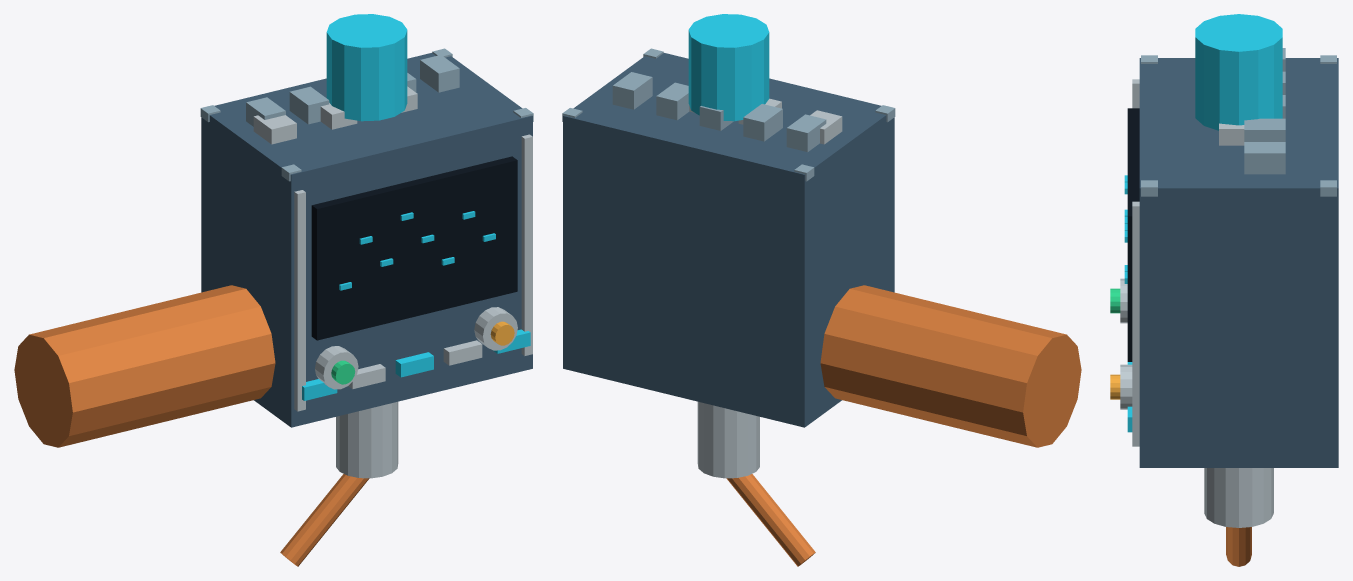
Rendered from 18_L76_ElectrolyteMassFlowController.fbx.
The picture shows the model from 3 angles, left to right: view 1: azimuth 30°, elevation 25°; view 2: azimuth 150°, elevation 25°; view 3: azimuth 270°, elevation 25°; orthographic projection. The views are drawn at different scales.
Visible parts, largest first — view 1: ElectrolyteMassFlowController, ElectrolyteMassFlowController_Part_0037; view 2: ElectrolyteMassFlowController, ElectrolyteMassFlowController_Part_0037; view 3: ElectrolyteMassFlowController, ElectrolyteMassFlowController_Part_0037.
Boxes of the visible parts, left/top/right/bottom form: ElectrolyteMassFlowController: left=14, top=48, right=533, bottom=566; ElectrolyteMassFlowController_Part_0037: left=326, top=14, right=407, bottom=121; ElectrolyteMassFlowController: left=562, top=48, right=1081, bottom=566; ElectrolyteMassFlowController_Part_0037: left=688, top=14, right=769, bottom=121; ElectrolyteMassFlowController: left=1110, top=48, right=1338, bottom=566; ElectrolyteMassFlowController_Part_0037: left=1195, top=14, right=1282, bottom=130.
Size of the model in its own units: 114 by 127 by 45.85.
